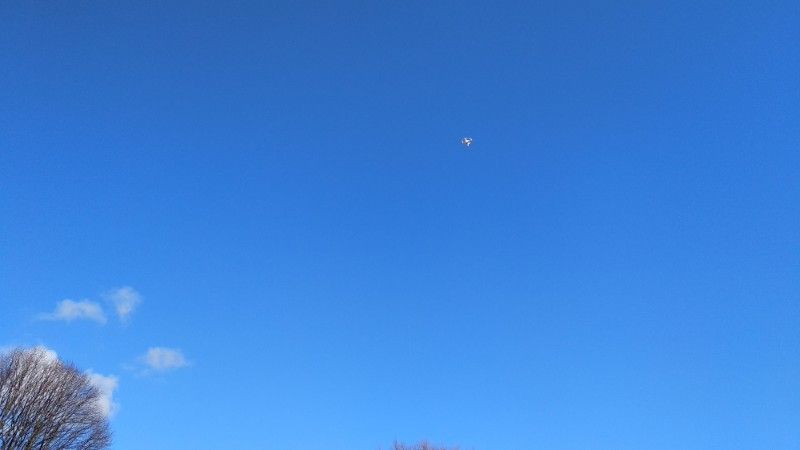drone: (459, 135, 475, 148)
